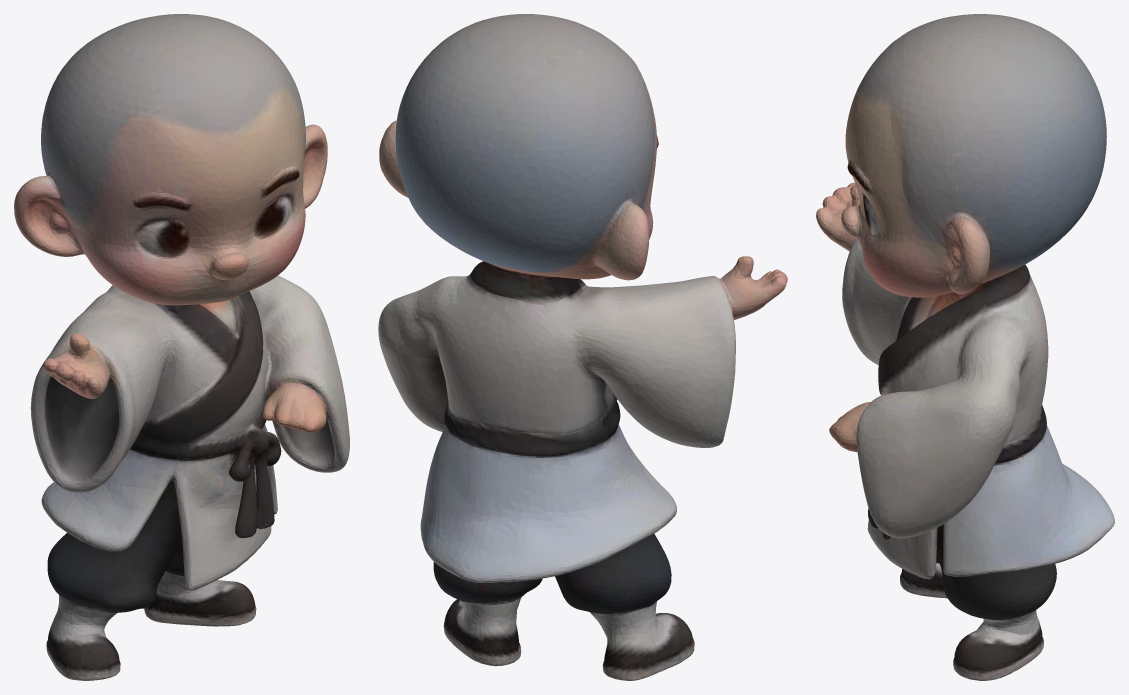
The model's file is Little_Monk1.glb.
3 renders of one model, left to right at view 1: azimuth 30°, elevation 25°; view 2: azimuth 150°, elevation 25°; view 3: azimuth 270°, elevation 25°, orthographic. The views are drawn at different scales.
Parts seen in each view (by area): view 1: 3d66-Editable_mesh-23318673-001; view 2: 3d66-Editable_mesh-23318673-001; view 3: 3d66-Editable_mesh-23318673-001.
Part boxes in pixels (x1,y1,x2,y2): 3d66-Editable_mesh-23318673-001: (14, 14, 349, 680); 3d66-Editable_mesh-23318673-001: (378, 14, 787, 680); 3d66-Editable_mesh-23318673-001: (816, 14, 1114, 680).
Size of the model in its own units: 0.6628 by 1.13 by 0.4961.
Materials: 1 (1 with a texture image).
